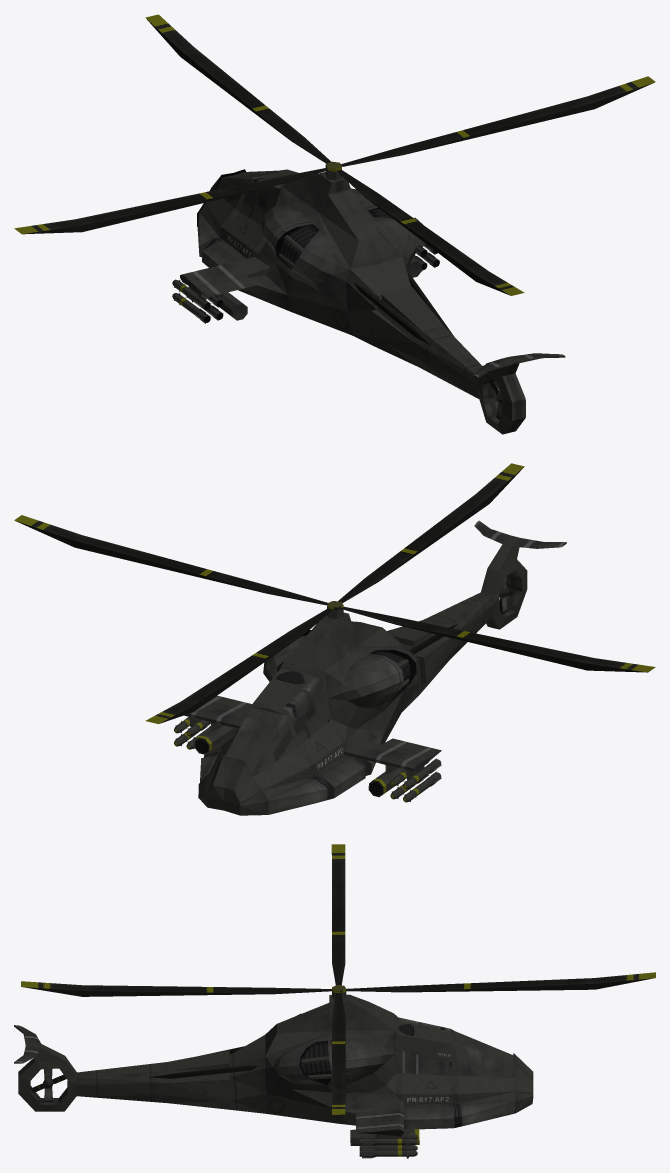
File: gunship.fbx
3 renders of one model, top to bottom at view 1: azimuth 30°, elevation 25°; view 2: azimuth 150°, elevation 25°; view 3: azimuth 270°, elevation 25°, orthographic. The views are drawn at different scales.
Parts seen in each view (by area): view 1: Gunship, Rotor; view 2: Gunship, Rotor; view 3: Gunship, Rotor.
Boxes of the visible parts, x1,y1,x2,y2 form: Gunship: [172, 161, 565, 434]; Rotor: [14, 14, 655, 295]; Gunship: [174, 520, 566, 815]; Rotor: [14, 463, 655, 723]; Gunship: [14, 985, 533, 1158]; Rotor: [21, 844, 655, 1114].
Size of the model in its own units: 65.79 by 66.54 by 15.5.
Materials: 1 (1 with a texture image).
